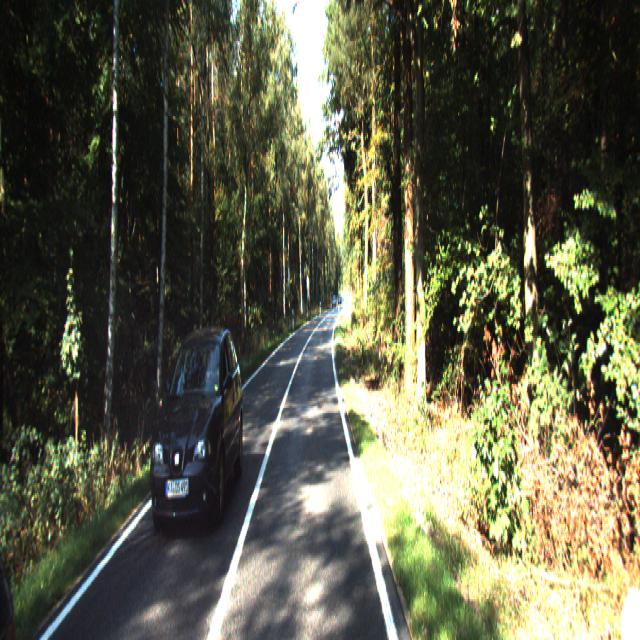Car: (146, 320, 246, 545)
